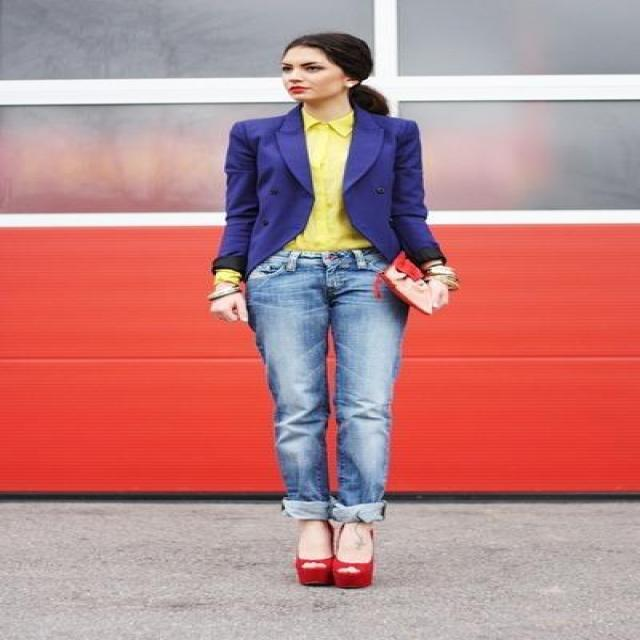bag: (374, 252, 454, 294)
jacket: (218, 101, 440, 273)
pants: (224, 249, 416, 531)
shirt: (284, 118, 370, 254)
shoe: (296, 554, 371, 588)
